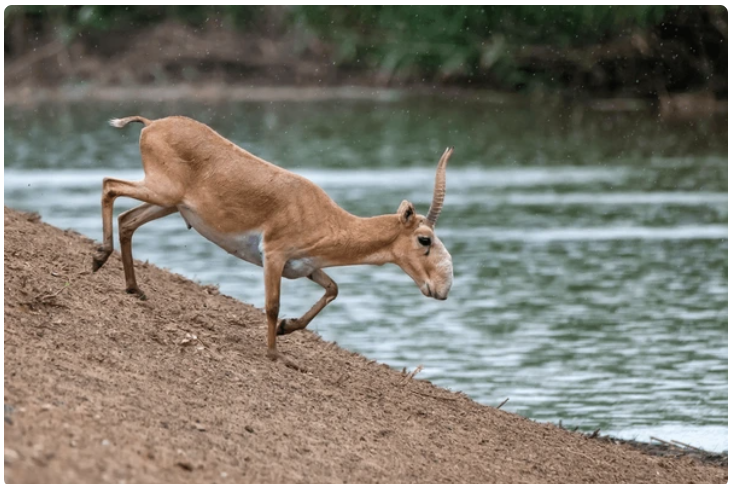saiga: (84, 101, 469, 371)
